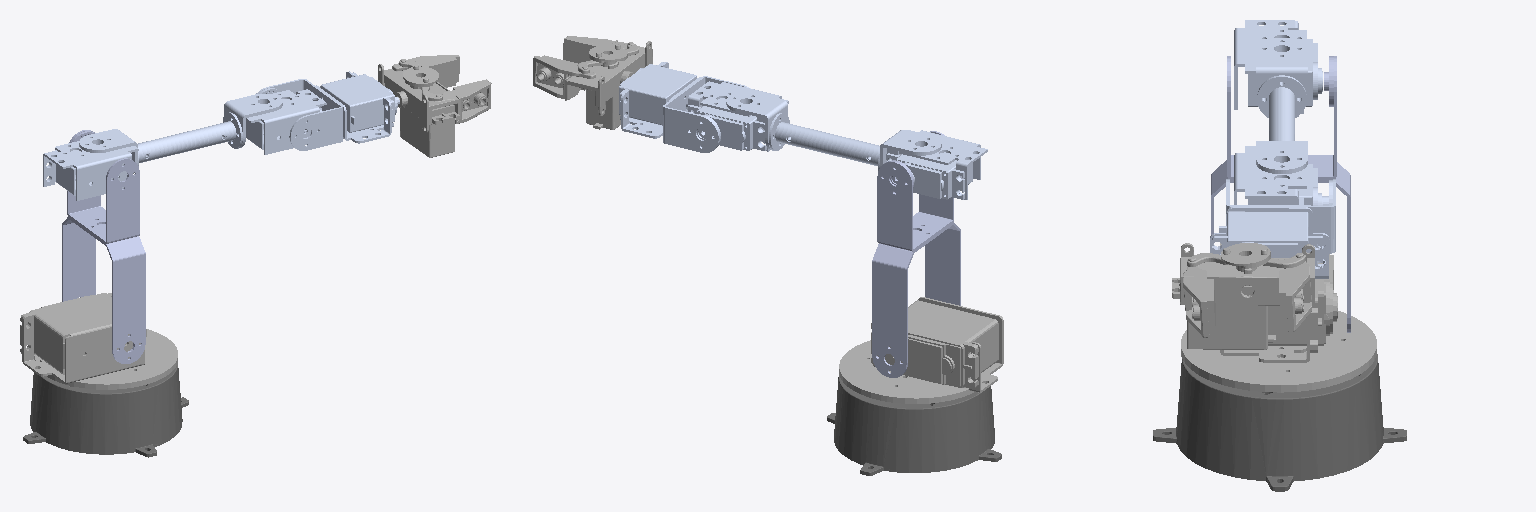
The robot description file, URDF, robot "alb5":
<robot
 name="alb5">


<!-- Links -->

  <link
    name="universal_link"/>

  <link
    name="universal_base">
    <inertial>
      <origin
        xyz="-0.053039 -0.00017356 0.025812"
        rpy="0 0 0" />
      <mass
        value="0.047047" />
      <inertia
        ixx="5.2284E-05"
        ixy="-3.601E-07"
        ixz="6.855E-08"
        iyy="5.2284E-05"
        iyz="-6.855E-08"
        izz="8.6172E-05" />
    </inertial>
    <visual>
      <origin
        xyz="0 0 0"
        rpy="0 0 0" />
      <geometry>
        <mesh
          filename="package://alb5_description/meshes/universal_base.STL" />
      </geometry>
      <material
        name="">
        <color
          rgba="0.50196 0.50196 0.50196 1" />
      </material>
    </visual>
    <collision>
      <origin
        xyz="0 0 0"
        rpy="0 0 0" />
      <geometry>
        <mesh
          filename="package://alb5_description/meshes/universal_base.STL" />
      </geometry>
    </collision>
  </link>

  <link
    name="base_link">
    <inertial>
      <origin
        xyz="-0.012308 -0.0014042 0.014799"
        rpy="0 0 0" />
      <mass
        value="0.12174" />
      <inertia
        ixx="5.1598E-05"
        ixy="3.9703E-07"
        ixz="-7.2302E-06"
        iyy="6.5945E-05"
        iyz="4.1623E-07"
        izz="8.4968E-05" />
    </inertial>
    <visual>
      <origin
        xyz="0 0 0"
        rpy="0 0 0" />
      <geometry>
        <mesh
          filename="package://alb5_description/meshes/base_link.STL" />
      </geometry>
      <material
        name="">
        <color
          rgba="0.75294 0.75294 0.75294 1" />
      </material>
    </visual>
    <collision>
      <origin
        xyz="0 0 0"
        rpy="0 0 0" />
      <geometry>
        <mesh
          filename="package://alb5_description/meshes/base_link.STL" />
      </geometry>
    </collision>
  </link>

  <link
    name="shoulder_link">
    <inertial>
      <origin
        xyz="0.066744 -4.1633E-17 -0.0019391"
        rpy="0 0 0" />
      <mass
        value="0.015039" />
      <inertia
        ixx="1.1153E-05"
        ixy="-9.0248E-11"
        ixz="-1.4331E-06"
        iyy="2.9548E-05"
        iyz="-3.2558E-21"
        izz="1.9883E-05" />
    </inertial>
    <visual>
      <origin
        xyz="0 0 0"
        rpy="0 0 0" />
      <geometry>
        <mesh
          filename="package://alb5_description/meshes/shoulder_link.STL" />
      </geometry>
      <material
        name="">
        <color
          rgba="0.79608 0.82353 0.93725 1" />
      </material>
    </visual>
    <collision>
      <origin
        xyz="0 0 0"
        rpy="0 0 0" />
      <geometry>
        <mesh
          filename="package://alb5_description/meshes/shoulder_link.STL" />
      </geometry>
    </collision>
  </link>

  <link
    name="elbow_link">
    <inertial>
      <origin
        xyz="0.015845 0.0003785 0.0069996"
        rpy="0 0 0" />
      <mass
        value="0.08291" />
      <inertia
        ixx="1.8696E-05"
        ixy="6.1592E-06"
        ixz="7.2825E-06"
        iyy="7.2928E-05"
        iyz="6.2765E-07"
        izz="7.3916E-05" />
    </inertial>
    <visual>
      <origin
        xyz="0.05831840 0 0"
        rpy="3.14159 3.14159 0" />
      <geometry>
        <mesh
          filename="package://alb5_description/meshes/elbow_link.STL" />
      </geometry>
      <material
        name="">
        <color
          rgba="0.86667 0.9098 1 1" />
      </material>
    </visual>
    <collision>
      <origin
        xyz="-0.0012183 0 0"
        rpy="3.14159 3.14159 0" />
      <geometry>
        <mesh
          filename="package://alb5_description/meshes/elbow_link.STL" />
      </geometry>
    </collision>
  </link>

  <link
    name="elbow_twist_link">
    <inertial>
      <origin
        xyz="0.0029382 0.0015075 0.029386"
        rpy="0 0 0" />
      <mass
        value="0.043897" />
      <inertia
        ixx="1.1596E-05"
        ixy="2.7195E-07"
        ixz="-1.1712E-07"
        iyy="1.4764E-05"
        iyz="3.4709E-07"
        izz="8.1213E-06" />
    </inertial>
  </link>

  <link
    name="wrist_link">
    <inertial>
      <origin
        xyz="0.040119 -0.00065426 0.0042288"
        rpy="-0.1 0 0" />
      <mass
        value="0.052802" />
      <inertia
        ixx="1.6001E-05"
        ixy="-7.1131E-08"
        ixz="3.1427E-06"
        iyy="3.0906E-05"
        iyz="-9.7169E-07"
        izz="2.0576E-05" />
    </inertial>
    <visual>
      <origin
        xyz="0 0 0"
        rpy="-0.1 0 0" />
      <geometry>
        <mesh
          filename="package://alb5_description/meshes/wrist_link.STL" />
      </geometry>
      <material
        name="">
        <color
          rgba="0.86667 0.9098 1 1" />
      </material>
    </visual>
    <collision>
      <origin
        xyz="0 0 0"
        rpy="0 0 0" />
      <geometry>
        <mesh
          filename="package://alb5_description/meshes/wrist_link.STL" />
      </geometry>
    </collision>
  </link>

  <link
    name="wrist_twist_link">
    <inertial>
      <origin
        xyz="0.0065571 0.01077 0.012875"
        rpy="0 0 0" />
      <mass
        value="0.03642" />
      <inertia
        ixx="6.6241E-06"
        ixy="1.1686E-06"
        ixz="6.0837E-08"
        iyy="8.5646E-06"
        iyz="1.085E-07"
        izz="1.204E-05" />
    </inertial>
    <visual>
      <origin
        xyz="0 -0.002 0.0035"
        rpy="0 0 -0.08" />
      <geometry>
        <mesh
          filename="package://alb5_description/meshes/wrist_twist_link.STL" />
      </geometry>
      <material
        name="">
        <color
          rgba="0.75294 0.75294 0.75294 1" />
      </material>
    </visual>
    <collision>
      <origin
        xyz="0 0 0"
        rpy="0 0 0" />
      <geometry>
        <mesh
          filename="package://alb5_description/meshes/wrist_twist_link.STL" />
      </geometry>
    </collision>
  </link>

  <link
    name="gripper_link">
    <inertial>
      <origin
        xyz="0.00017582 -0.0025503 -0.02176"
        rpy="0 0 0" />
      <mass
        value="0.011113" />
      <inertia
        ixx="2.3432E-06"
        ixy="2.8331E-07"
        ixz="2.8618E-08"
        iyy="6.1948E-06"
        iyz="5.2081E-07"
        izz="5.0216E-06" />
    </inertial>
    <visual>
      <origin
        xyz="0 -0.002 0.0035"
        rpy="0 0 0" />
      <geometry>
        <mesh
          filename="package://alb5_description/meshes/gripper_link.STL" />
      </geometry>
      <material
        name="">
        <color
          rgba="0.75294 0.75294 0.75294 1" />
      </material>
    </visual>
    <collision>
      <origin
        xyz="0 0 0"
        rpy="0 0 -0.08" />
      <geometry>
        <mesh
          filename="package://alb5_description/meshes/gripper_link.STL" />
      </geometry>
    </collision>
  </link>


<!-- Joints -->  

  <joint
    name="universal_joint"
    type="fixed">
    <origin
      xyz="0 0 0"
      rpy="0 0 0" />
    <parent
      link="universal_link" />
    <child
      link="universal_base" />
    <axis
      xyz="0 0 0" />
  </joint>

  <joint
    name="base"
    type="revolute">
    <origin
      xyz="-0.053523 0.00068628 0.046204"
      rpy="0 0 0" />
    <parent
      link="universal_base" />
    <child
      link="base_link" />
    <axis
      xyz="0 0 1" />
    <limit
      lower="-1.57"
      upper="1.57"
      effort="1"
      velocity="1.5" />
    <dynamics
      damping="0.7"
      friction="0" />
  </joint>

  <joint
    name="shoulder"
    type="revolute">
    <origin
      xyz="-0.0013006 -0.0003321 0.02048"
      rpy="-1.5708 -1.5708 -3.1416" />
    <parent
      link="base_link" />
    <child
      link="shoulder_link" />
    <axis
      xyz="0 0 1" />
    <limit
      lower="-1.57"
      upper="1.57"
      effort="1"
      velocity="1.5" />
    <dynamics
      damping="0.7"
      friction="0" />
  </joint>

  <joint
    name="elbow"
    type="revolute">
    <origin
      xyz="0.11909 0 -0.0006096"
      rpy="0 0 -1.5708" />
    <parent
      link="shoulder_link" />
    <child
      link="elbow_link" />
    <axis
      xyz="0 0 1" />
    <limit
      lower="-1.57"
      upper="1.57"
      effort="1"
      velocity="1.5" />
    <dynamics
      damping="0.7"
      friction="0" />
  </joint>

  <joint
    name="elbow_twist"
    type="fixed">
    <origin
      xyz="0.069191 -0.0059635 0.008392"
      rpy="1.5708 1.5708 1.5708" />
    <parent
      link="elbow_link" />
    <child
      link="elbow_twist_link" />
    <axis
      xyz="0 0 1" />
    <limit
      lower="-1.57"
      upper="1.57"
      effort="1"
      velocity="1.5" />
    <dynamics
      damping="0.7"
      friction="0" />
  </joint>

  <joint
    name="wrist"
    type="revolute">
    <origin
      xyz="0.008 0.005 0.0685"
      rpy="0 -1.5708 0" />
    <parent
      link="elbow_twist_link" />
    <child
      link="wrist_link" />
    <axis
      xyz="0 0 1" />
    <limit
      lower="-1.57"
      upper="1.57"
      effort="1"
      velocity="1" />
    <dynamics
      damping="0.1"
      friction="0" />
  </joint>

  <joint
    name="wrist_twist"
    type="revolute">
    <origin
      xyz="0.074447 0.00051434 0.015966"
      rpy="0 -1.5708 3.1416" />
    <parent
      link="wrist_link" />
    <child
      link="wrist_twist_link" />
    <axis
      xyz="0 0 1" />
    <limit
      lower="-1.57"
      upper="1.57"
      effort="1"
      velocity="1.5" />
    <dynamics
      damping="0.7"
      friction="0" />
  </joint>

  <joint
    name="gripper"
    type="revolute">
    <origin
      xyz="0 0 0.053708"
      rpy="0 0 0" />
    <parent
      link="wrist_twist_link" />
    <child
      link="gripper_link" />
    <axis
      xyz="0 0 1" />
    <limit
      lower="-1.57"
      upper="1.57"
      effort="1"
      velocity="1.5" />
    <dynamics
      damping="0.7"
      friction="0" />
  </joint>

</robot>

--- Facts derived from the render (not from the file) ---
3 views of the same robot in one strip: view 1: azimuth 30°, elevation 25°; view 2: azimuth 150°, elevation 25°; view 3: azimuth 270°, elevation 25° (orthographic).
Model alb5 with 9 links and 8 joints (6 revolute, 2 fixed), rooted at universal_link, posed every joint at zero.
Visible links, largest first — view 1: shoulder_link, elbow_link, universal_base, base_link, wrist_link, wrist_twist_link, gripper_link; view 2: elbow_link, shoulder_link, universal_base, base_link, wrist_link, gripper_link, wrist_twist_link; view 3: universal_base, elbow_link, base_link, wrist_twist_link, wrist_link, gripper_link, shoulder_link.
Boxes of the visible links, x1,y1,x2,y2 form: shoulder_link: [62, 130, 145, 363]; elbow_link: [43, 89, 326, 200]; universal_base: [23, 364, 188, 457]; base_link: [20, 293, 177, 389]; wrist_link: [256, 71, 399, 150]; wrist_twist_link: [378, 64, 460, 157]; gripper_link: [392, 55, 491, 123]; elbow_link: [688, 81, 987, 199]; shoulder_link: [872, 131, 960, 377]; universal_base: [827, 374, 1001, 475]; base_link: [839, 297, 1003, 403]; wrist_link: [619, 62, 750, 152]; gripper_link: [533, 36, 638, 99]; wrist_twist_link: [565, 40, 652, 129]; universal_base: [1153, 354, 1406, 491]; elbow_link: [1234, 20, 1322, 205]; base_link: [1181, 243, 1376, 392]; wrist_twist_link: [1172, 243, 1314, 349]; wrist_link: [1210, 179, 1335, 278]; gripper_link: [1183, 243, 1311, 337]; shoulder_link: [1211, 56, 1350, 332].
Size in the robot's own frame: 0.3285 by 0.1214 by 0.2061 metres.
Meshes: 7 distinct files referenced, 7 mesh visuals loaded (7 binary STL).
